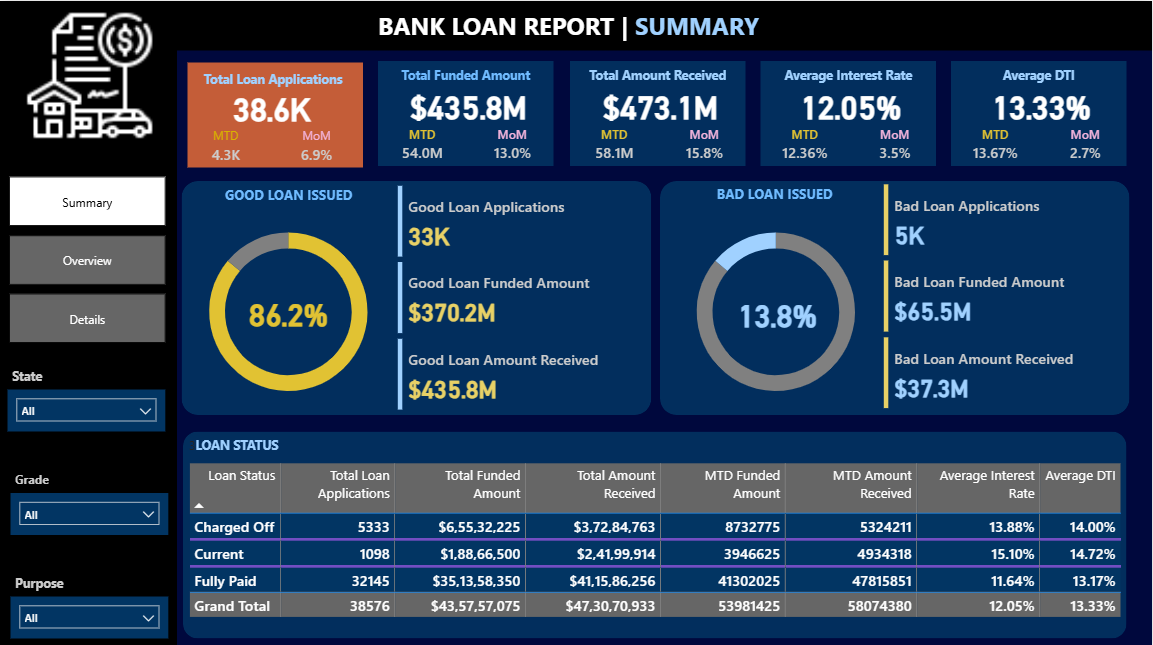

This screenshot's page, from the dashboard's own definition file:
{"tool":"powerbi","page":{"name":"Summary","canvas":[1280,720],"ordinal":0},"visuals":[{"type":"shape","box":[0,53.3,196.7,666.7],"z":0},{"type":"shape","box":[420.4,66.7,195,116.7],"z":0,"group":"g1"},{"type":"shape","box":[632.5,66.7,195,116.7],"z":0,"group":"g2"},{"type":"shape","box":[844.6,66.7,195,116.7],"z":0,"group":"g3"},{"type":"shape","box":[1056.7,66.7,195,116.7],"z":0,"group":"g4"},{"type":"shape","box":[207.1,68.3,195,116.7],"z":0,"group":"g5"},{"type":"slicer","title":"State","fields":{"Values":["bank_loan_data.address_state"]},"box":[8.6,431.4,175,46.7],"z":0,"group":"g12"},{"type":"slicer","title":"State","fields":{"Values":["bank_loan_data.grade"]},"box":[11.4,547.1,175,46.7],"z":0,"group":"g13"},{"type":"slicer","title":"State","fields":{"Values":["bank_loan_data.purpose"]},"box":[11.4,661.4,175,46.7],"z":0,"group":"g14"},{"type":"card","fields":{"Values":["Measure Table.Total Funded Amount"]},"box":[450.4,93.4,140,45],"z":1000,"group":"g1"},{"type":"card","fields":{"Values":["Measure Table.Total Amount Received"]},"box":[662.5,93.4,140,45],"z":1000,"group":"g2"},{"type":"card","fields":{"Values":["Measure Table.Average Interest Rate"]},"box":[874.6,93.4,140,45],"z":1000,"group":"g3"},{"type":"card","fields":{"Values":["Measure Table.Average DTI"]},"box":[1086.7,93.4,140,45],"z":1000,"group":"g4"},{"type":"card","fields":{"Values":["Measure Table.Total Loan Applications"]},"box":[216.1,94.4,170,45],"z":1000,"group":"g5"},{"type":"shape","box":[201.7,200,522,260],"z":1000},{"type":"textbox","box":[8.6,401.4,76.7,30],"z":1000,"group":"g12"},{"type":"textbox","box":[11.4,517.1,76.7,30],"z":1000,"group":"g13"},{"type":"textbox","box":[11.4,631.4,76.7,30],"z":1000,"group":"g14"},{"type":"shape","box":[0,0,1280,55],"z":2000},{"type":"textbox","box":[420.4,66.7,195,36.7],"z":2000,"group":"g1"},{"type":"textbox","box":[632.5,66.7,195,36.7],"z":2000,"group":"g2"},{"type":"textbox","box":[844.6,66.7,195,36.7],"z":2000,"group":"g3"},{"type":"textbox","box":[1056.7,66.7,195,36.7],"z":2000,"group":"g4"},{"type":"textbox","box":[202.6,71.1,200,31.7],"z":2000,"group":"g5"},{"type":"textbox","box":[745.2,198.3,231.7,36.7],"z":2000,"group":"g11"},{"type":"textbox","box":[205,200,231.7,36.7],"z":2000,"group":"g10"},{"type":"card","title":"MTD","fields":{"Values":["Measure Table.MTD Funded Amount"]},"box":[435.4,138.4,68.3,45],"z":3000,"group":"g1"},{"type":"card","title":"MTD","fields":{"Values":["Measure Table.MTD Amount Received"]},"box":[647.5,138.4,68.3,45],"z":3000,"group":"g2"},{"type":"card","title":"MTD","fields":{"Values":["Measure Table.MTD Average Interest Rate"]},"box":[859.6,138.4,68.3,45],"z":3000,"group":"g3"},{"type":"card","title":"MTD","fields":{"Values":["Measure Table.MTD Average DTI"]},"box":[1071.7,138.4,68.3,45],"z":3000,"group":"g4"},{"type":"card","title":"MTD","fields":{"Values":["Measure Table.MTD Loan Applications"]},"box":[196.1,139.4,108.3,46.7],"z":3000,"group":"g5"},{"type":"card","fields":{"Values":["Measure Table.Good Loan %"]},"box":[250,323.3,140,45],"z":3000},{"type":"textbox","box":[415,3.3,448.3,50],"z":4000},{"type":"card","title":"MoM","fields":{"Values":["Measure Table.MOM Funded Amount"]},"box":[535.4,138.4,68.3,45],"z":4000,"group":"g1"},{"type":"card","title":"MoM","fields":{"Values":["Measure Table.MoM Amount Received"]},"box":[747.5,138.4,68.3,45],"z":4000,"group":"g2"},{"type":"card","title":"MoM","fields":{"Values":["Measure Table.MoM Average Interest Rate"]},"box":[959.6,138.4,68.3,45],"z":4000,"group":"g3"},{"type":"card","title":"MoM","fields":{"Values":["Measure Table.MoM Average DTI"]},"box":[1171.7,138.4,68.3,45],"z":4000,"group":"g4"},{"type":"card","title":"MoM","fields":{"Values":["Measure Table.MOM Loan Applications"]},"box":[299.4,139.4,103.3,46.7],"z":4000,"group":"g5"},{"type":"group","id":"g1","title":"Group 1","box":[420.4,66.7,195,116.7],"z":4001,"group":"g6"},{"type":"group","id":"g2","title":"Group 1","box":[632.5,66.7,195,116.7],"z":4001,"group":"g7"},{"type":"group","id":"g3","title":"Group 1","box":[844.6,66.7,195,116.7],"z":4001,"group":"g9"},{"type":"group","id":"g4","title":"Group 1","box":[1056.7,66.7,195,116.7],"z":4001,"group":"g8"},{"type":"group","id":"g5","title":"Group 2","box":[196.1,68.3,206.7,117.8],"z":5000},{"type":"group","id":"g6","title":"Group 3","box":[420.4,66.7,195,116.7],"z":6000},{"type":"group","id":"g7","title":"Group 3","box":[632.5,66.7,195,116.7],"z":7000},{"type":"group","id":"g8","title":"Group 3","box":[1056.7,66.7,195,116.7],"z":8000},{"type":"group","id":"g9","title":"Group 3","box":[844.6,66.7,195,116.7],"z":9000},{"type":"shape","box":[733.3,200,521.7,260],"z":10000},{"type":"donutChart","fields":{"Category":["bank_loan_data.Good vs Bad Loan"],"Y":["Measure Table.Total Loan Applications"]},"box":[203.3,230,233.3,230],"z":10000,"group":"g10"},{"type":"donutChart","fields":{"Category":["bank_loan_data.Good vs Bad Loan"],"Y":["Measure Table.Total Loan Applications"]},"box":[745,230.5,233.3,230],"z":10000,"group":"g11"},{"type":"card","fields":{"Values":["Measure Table.Bad Loan %"]},"box":[793.3,325,140,45],"z":11000},{"type":"cardVisual","fields":{"Data":["Measure Table.Bad Loan Applications","Measure Table.Bad Loan Funded Amount","Measure Table.Bad Loan Amount Received"]},"box":[976.9,198.3,288.3,260],"z":11001,"group":"g11"},{"type":"cardVisual","fields":{"Data":["Measure Table.Good Loan Applications","Measure Table.Good Loan Funded Amount","Measure Table.Good Loan Amount Received"]},"box":[436.6,200,288.3,260],"z":11001,"group":"g10"},{"type":"group","id":"g10","title":"Group 4","box":[203.3,200,521.7,260],"z":12000},{"type":"shape","box":[203.3,478.3,1048.3,230],"z":13000},{"type":"group","id":"g11","title":"Group 4","box":[745,198.3,520,261.7],"z":14000},{"type":"tableEx","fields":{"Values":["bank_loan_data.loan_status","Measure Table.Total Loan Applications","Measure Table.Total Funded Amount","Measure Table.Total Amount Received","Measure Table.MTD Funded Amount","Measure Table.MTD Amount Received","Measure Table.Average Interest Rate","Measure Table.Average DTI"]},"box":[205,508.3,1075,200],"z":15000},{"type":"textbox","box":[205,478.3,215,30],"z":16000},{"type":"group","id":"g12","title":"Group 5","box":[8.6,401.4,175.7,77.1],"z":17000},{"type":"group","id":"g13","title":"Group 5","box":[11.4,517.1,175.7,75.7],"z":18000},{"type":"group","id":"g14","title":"Group 5","box":[11.4,631.4,175.7,77.1],"z":19000},{"type":"image","box":[8.6,2.9,182.9,158.6],"z":20000},{"type":"pageNavigator","box":[10,194.3,174.3,187.1],"z":21000}]}

Visuals, with their boxes in screenshot pixels (x1, y1, x2, y2), scaled from the page's 1280x720 canvas onto the 1153x645 screenshot:
shape: 0/48/177/644
shape: 379/60/554/164
shape: 570/60/745/164
shape: 761/60/936/164
shape: 952/60/1128/164
shape: 187/61/362/166
"State" slicer: 8/386/165/428
"State" slicer: 10/490/168/532
"State" slicer: 10/593/168/634
card - Measure Table.Total Funded Amount: 406/84/532/124
card - Measure Table.Total Amount Received: 597/84/723/124
card - Measure Table.Average Interest Rate: 788/84/914/124
card - Measure Table.Average DTI: 979/84/1105/124
card - Measure Table.Total Loan Applications: 195/85/348/125
shape: 182/179/652/412
textbox: 8/360/77/386
textbox: 10/463/79/490
textbox: 10/566/79/593
shape: 0/0/1152/49
textbox: 379/60/554/93
textbox: 570/60/745/93
textbox: 761/60/936/93
textbox: 952/60/1128/93
textbox: 182/64/363/92
textbox: 671/178/880/211
textbox: 185/179/393/212
"MTD" card: 392/124/454/164
"MTD" card: 583/124/645/164
"MTD" card: 774/124/836/164
"MTD" card: 965/124/1027/164
"MTD" card: 177/125/274/167
card - Measure Table.Good Loan %: 225/290/351/330
textbox: 374/3/778/48
"MoM" card: 482/124/544/164
"MoM" card: 673/124/735/164
"MoM" card: 864/124/926/164
"MoM" card: 1055/124/1117/164
"MoM" card: 270/125/363/167
"Group 1" group: 379/60/554/164
"Group 1" group: 570/60/745/164
"Group 1" group: 761/60/936/164
"Group 1" group: 952/60/1128/164
"Group 2" group: 177/61/363/167
"Group 3" group: 379/60/554/164
"Group 3" group: 570/60/745/164
"Group 3" group: 952/60/1128/164
"Group 3" group: 761/60/936/164
shape: 661/179/1130/412
donutChart - bank_loan_data.Good vs Bad Loan x Measure Table.Total Loan Applications: 183/206/393/412
donutChart - bank_loan_data.Good vs Bad Loan x Measure Table.Total Loan Applications: 671/206/881/413
card - Measure Table.Bad Loan %: 715/291/841/331
cardVisual - Measure Table.Bad Loan Applications x Measure Table.Bad Loan Funded Amount: 880/178/1140/411
cardVisual - Measure Table.Good Loan Applications x Measure Table.Good Loan Funded Amount: 393/179/653/412
"Group 4" group: 183/179/653/412
shape: 183/428/1127/635
"Group 4" group: 671/178/1139/412
tableEx - bank_loan_data.loan_status x Measure Table.Total Loan Applications: 185/455/1152/635
textbox: 185/428/378/455
"Group 5" group: 8/360/166/429
"Group 5" group: 10/463/169/531
"Group 5" group: 10/566/169/635
image: 8/3/172/145
pageNavigator: 9/174/166/342
